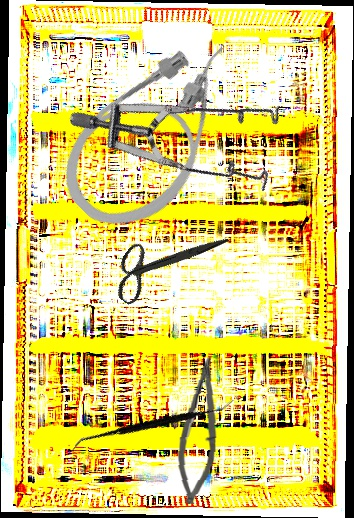Cannula: (40, 19, 275, 250)
Iris Scissors: (102, 195, 229, 331)
Micro Scissor: (173, 354, 223, 506)
Spatula Surgical: (70, 342, 235, 509)
Speculum: (65, 6, 313, 248)
